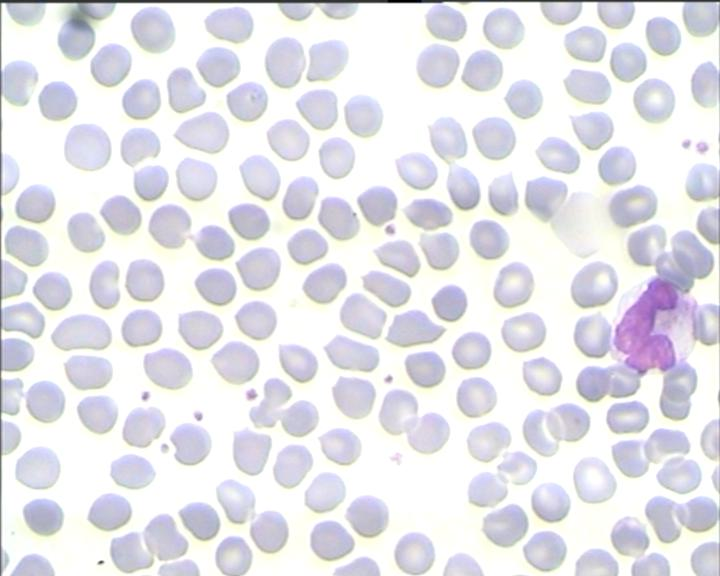mono: (604, 272, 699, 376)
